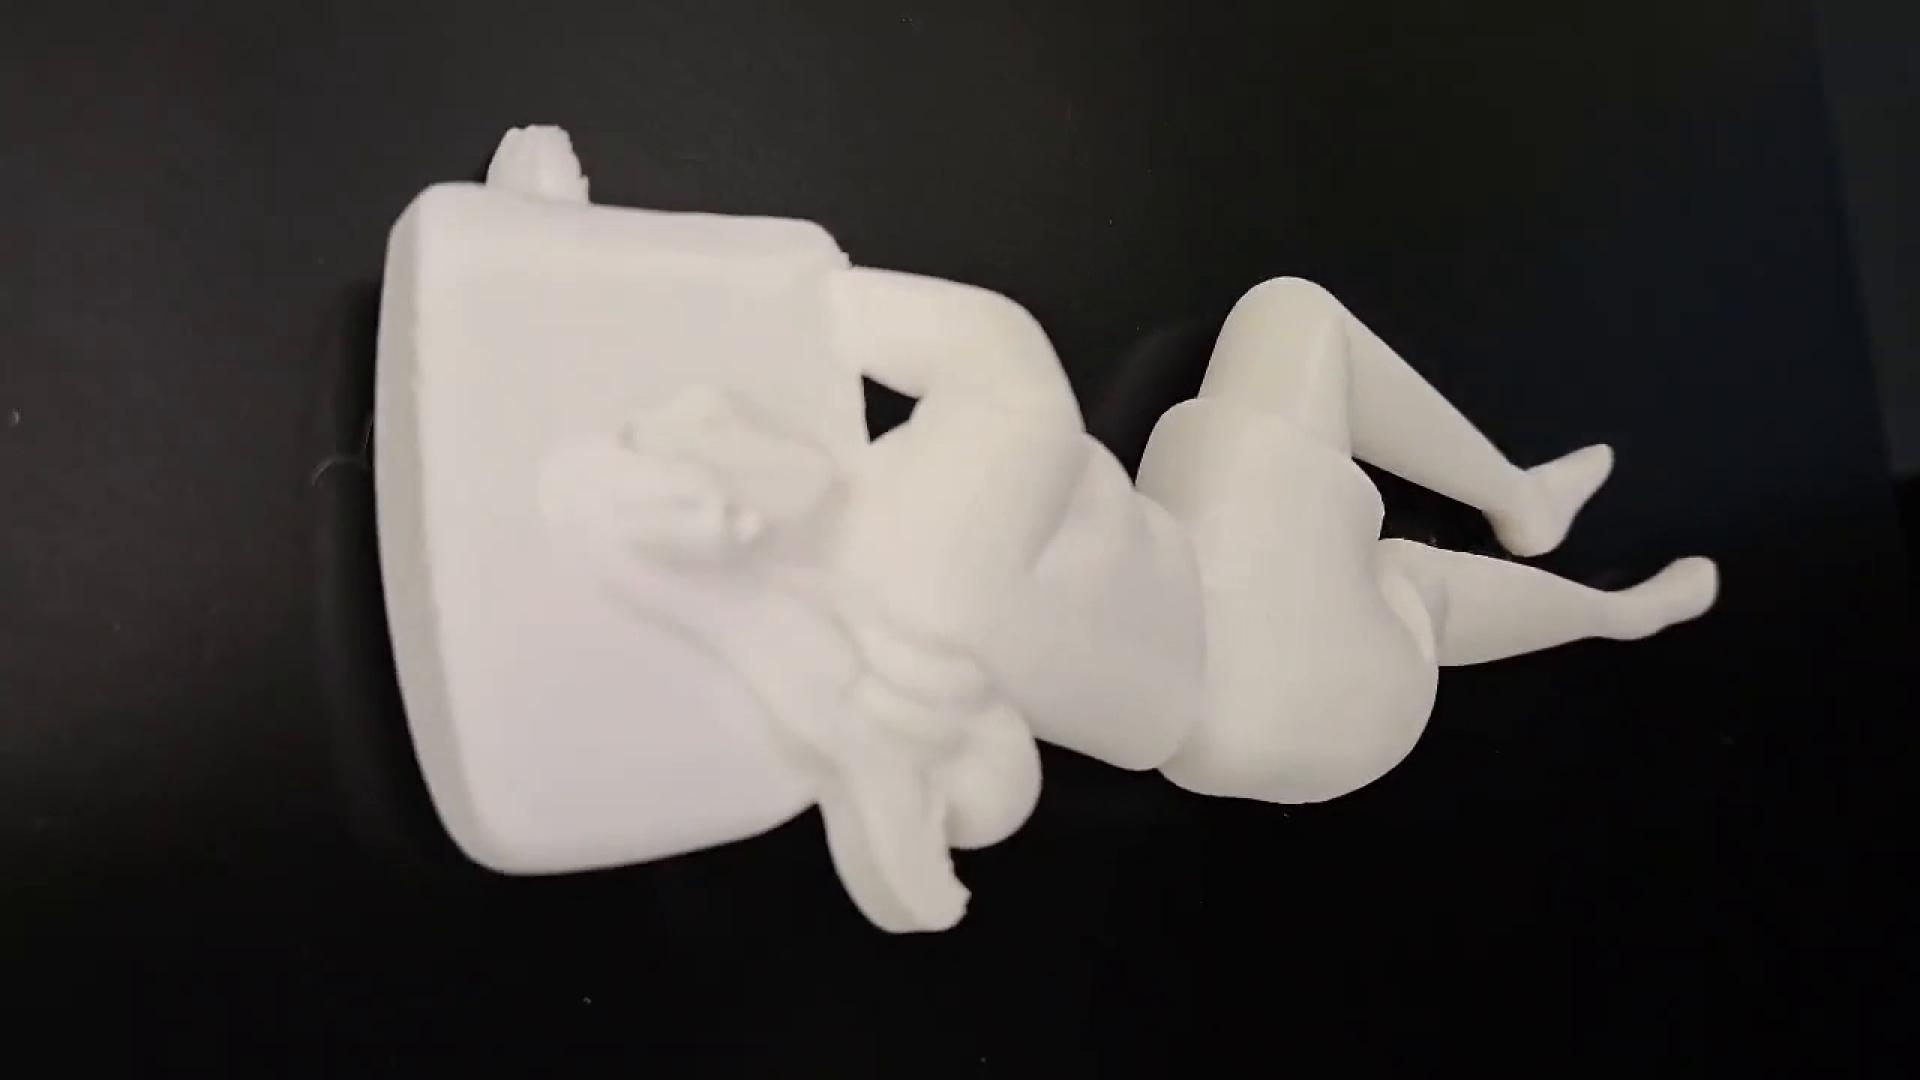Good-style: (367, 117, 1726, 951)
